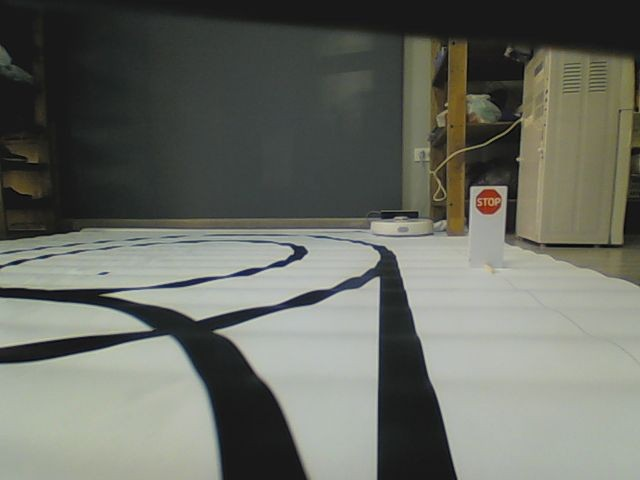Stop: (475, 188, 502, 216)
